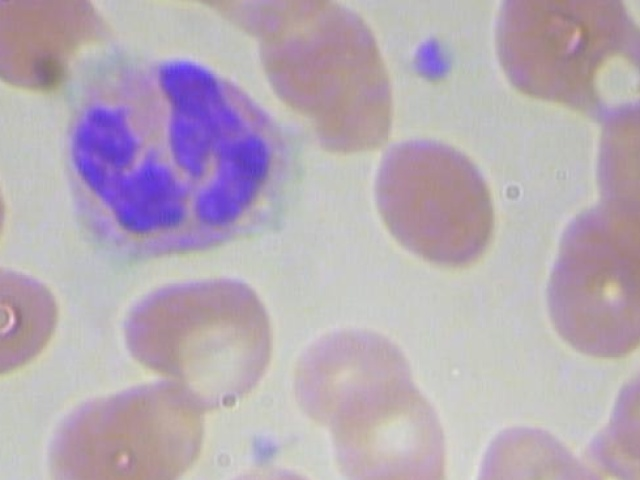Platelets: (399, 29, 455, 93)
RBC: (349, 132, 516, 281), (39, 365, 225, 480), (120, 266, 276, 380), (248, 0, 385, 122), (319, 371, 456, 480), (287, 308, 415, 424), (541, 233, 640, 364), (0, 0, 115, 98), (458, 418, 595, 480), (581, 96, 640, 227), (338, 444, 476, 480), (607, 326, 640, 467), (202, 459, 341, 480)
WBC: (47, 51, 309, 276)
